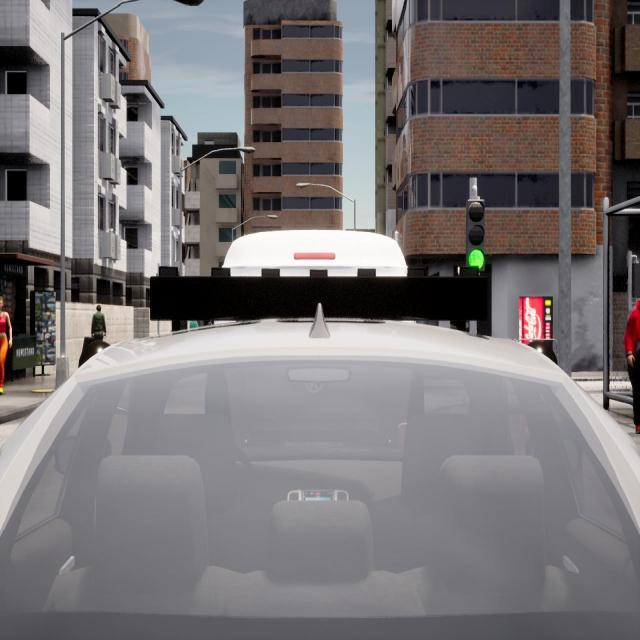Pedestrian: (624, 299, 640, 433), (0, 296, 12, 394), (93, 305, 105, 342)
Vehicle: (0, 319, 640, 637), (221, 231, 404, 280)
traffic_light: (467, 201, 485, 269), (631, 262, 640, 298)
